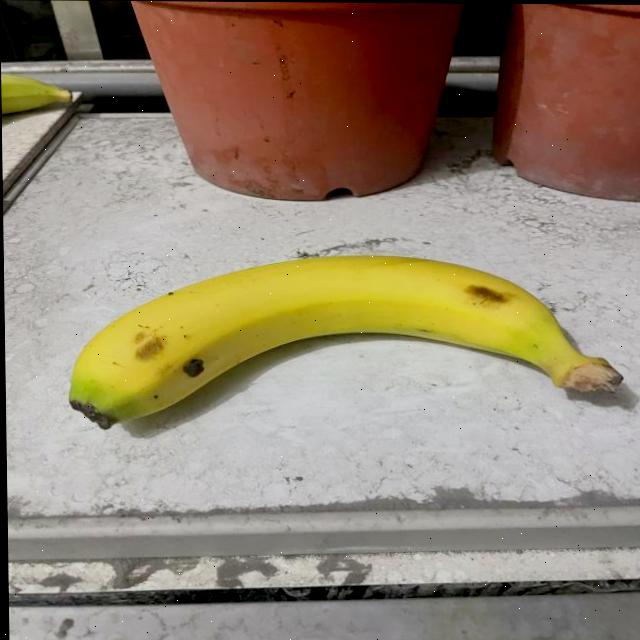banana: (61, 246, 625, 432)
